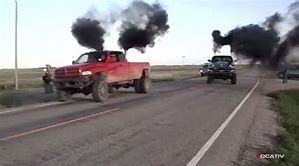smoke: (211, 8, 299, 52), (115, 1, 168, 51), (68, 11, 106, 48)
